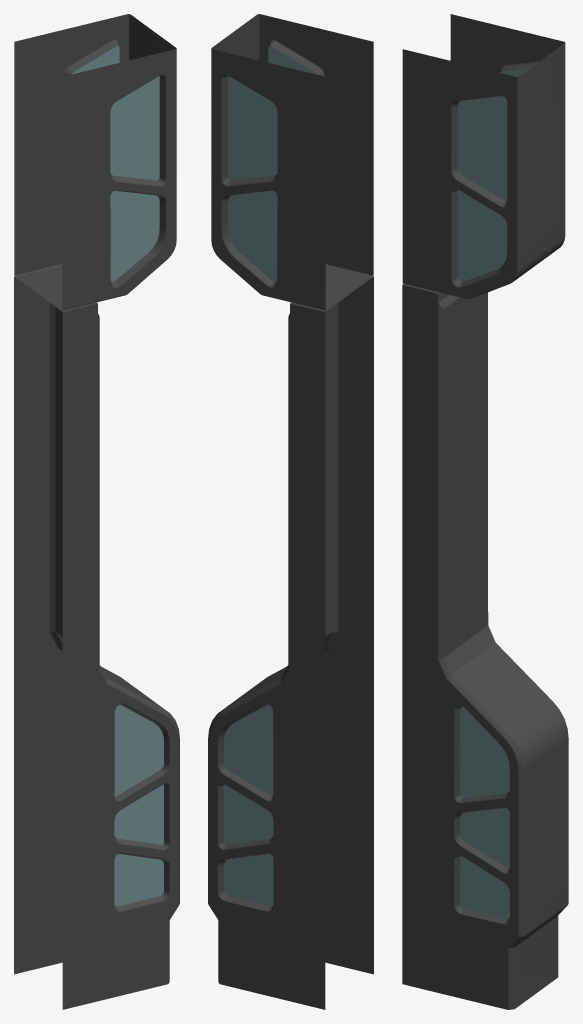
The model's file is ColumnWallRangeGeo.fbx.
The picture shows the model from 3 angles, left to right: view 1: azimuth 30°, elevation 25°; view 2: azimuth 150°, elevation 25°; view 3: azimuth 330°, elevation 25°; orthographic projection.
Visible parts, largest first — view 1: ColumnWallRangeGeo; view 2: ColumnWallRangeGeo; view 3: ColumnWallRangeGeo.
Boxes of the visible parts, x1=… form: ColumnWallRangeGeo: x1=14, y1=14, x2=179, y2=1009; ColumnWallRangeGeo: x1=208, y1=14, x2=373, y2=1009; ColumnWallRangeGeo: x1=402, y1=14, x2=568, y2=1009.
Bounding box in the file's own units: 44.67 × 332 × 31.29.
